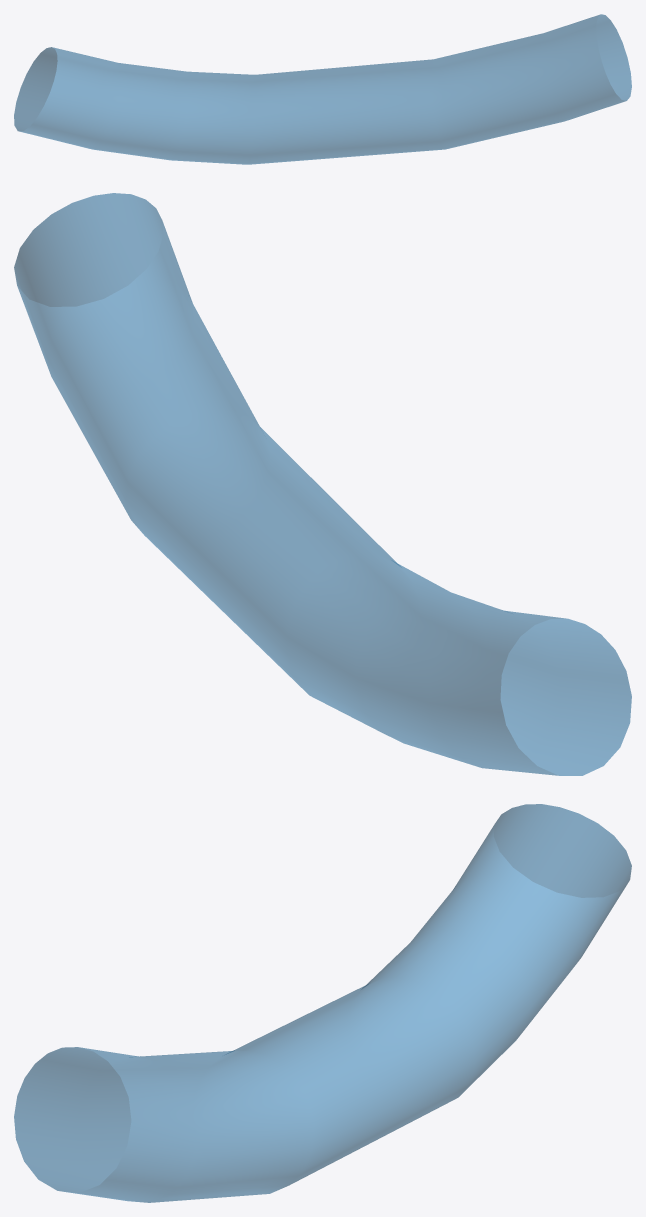
The model's file is lacZ_holder.glb.
3 renders of one model, top to bottom at view 1: azimuth 30°, elevation 25°; view 2: azimuth 150°, elevation 25°; view 3: azimuth 270°, elevation 25°, orthographic. The views are drawn at different scales.
Visible parts, largest first — view 1: lacZ; view 2: lacZ; view 3: lacZ.
Boxes of the visible parts, x1,y1,x2,y2 form: lacZ: [14, 14, 631, 164]; lacZ: [14, 193, 631, 775]; lacZ: [14, 804, 631, 1202].
Bounding box in the file's own units: 0.5642 × 0.1773 × 0.3967.
Materials: 1 (1 with a texture image).
